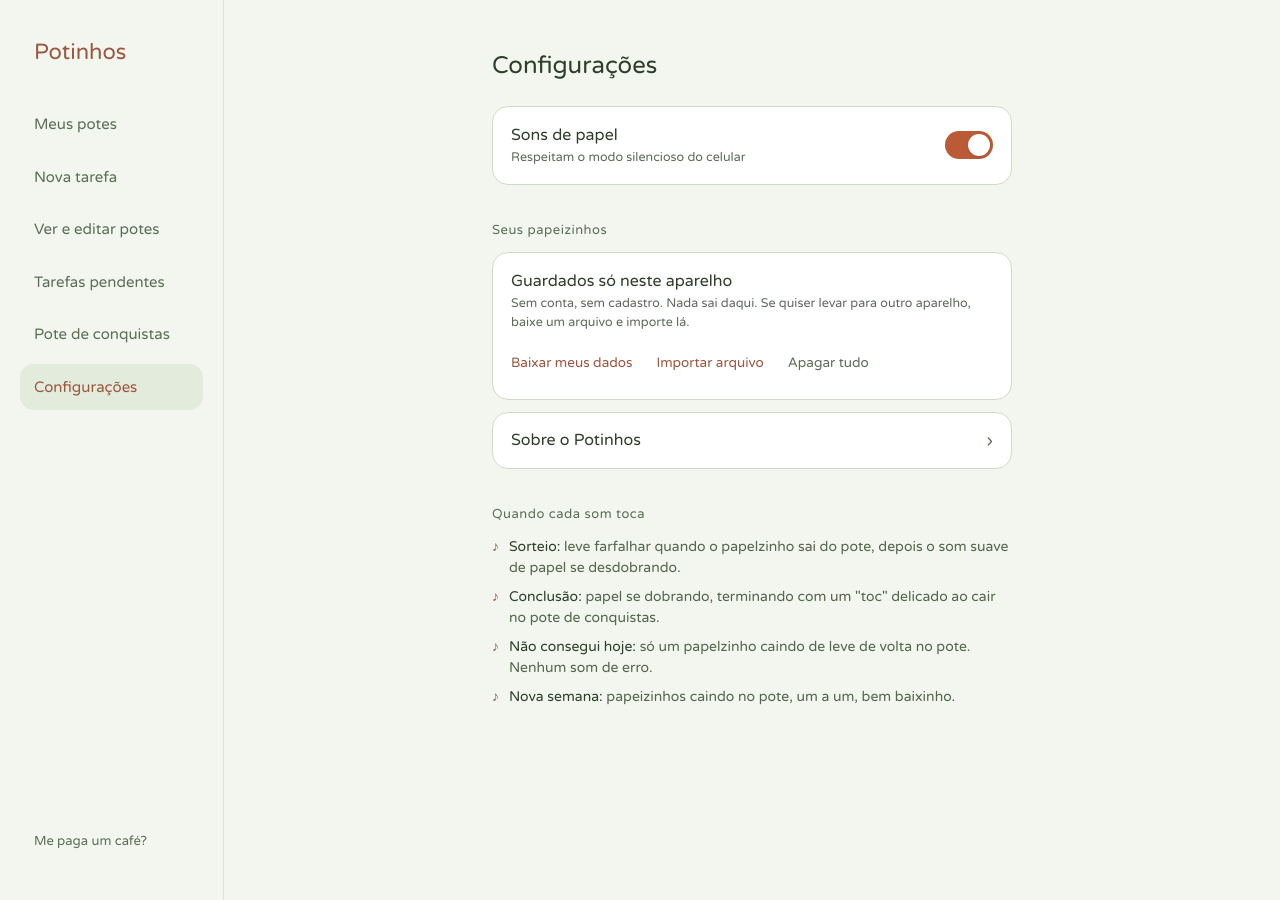
Scenario: Settings › downloads the data as a dated JSON file
Expected: the heading "Configurações" is shown, [492,51,657,80]
Click the button "Baixar meus dados" at (577, 363), box [511,343,642,383]
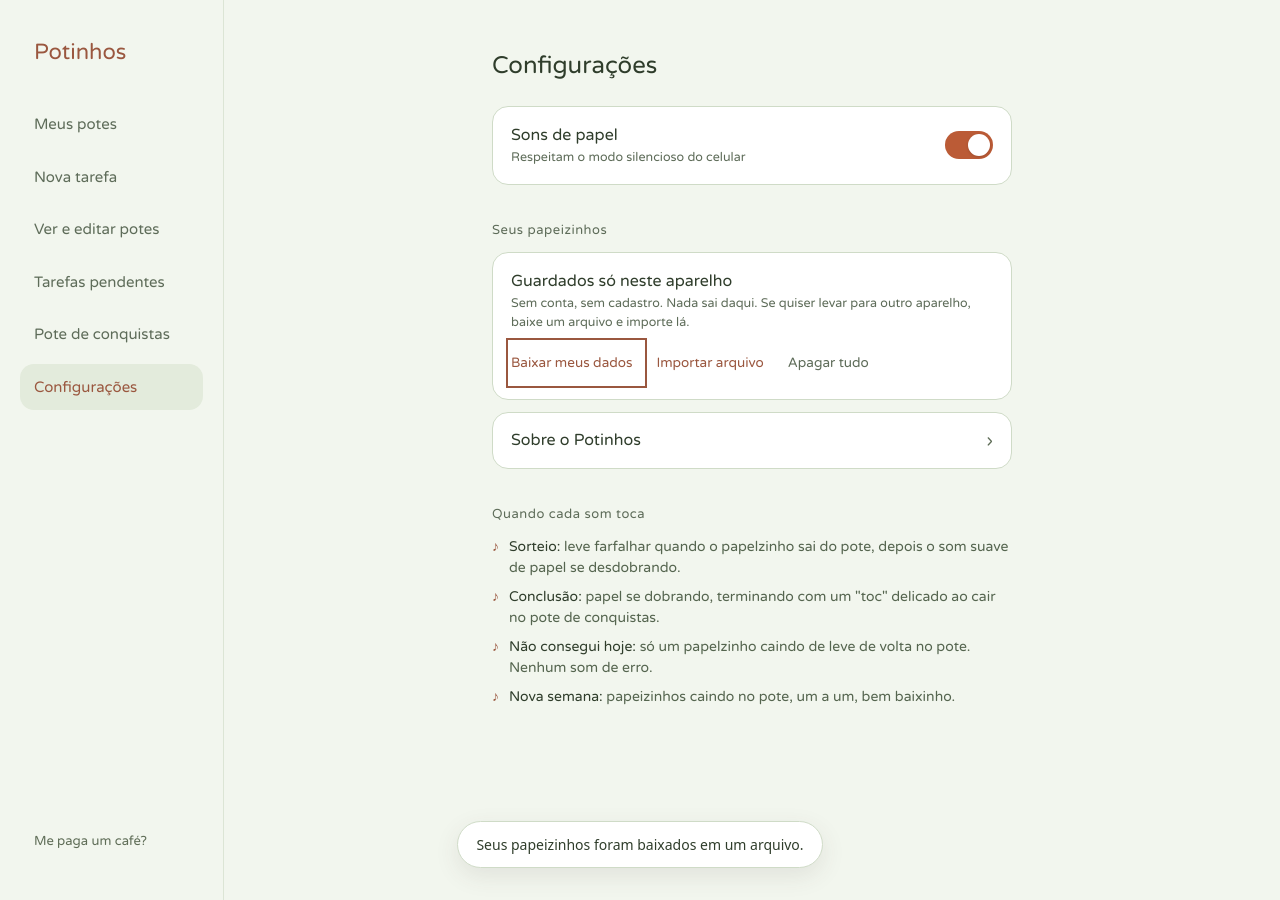
Expected: the text "Seus papeizinhos foram baixados em um arquivo." is shown, [457,821,823,868]
